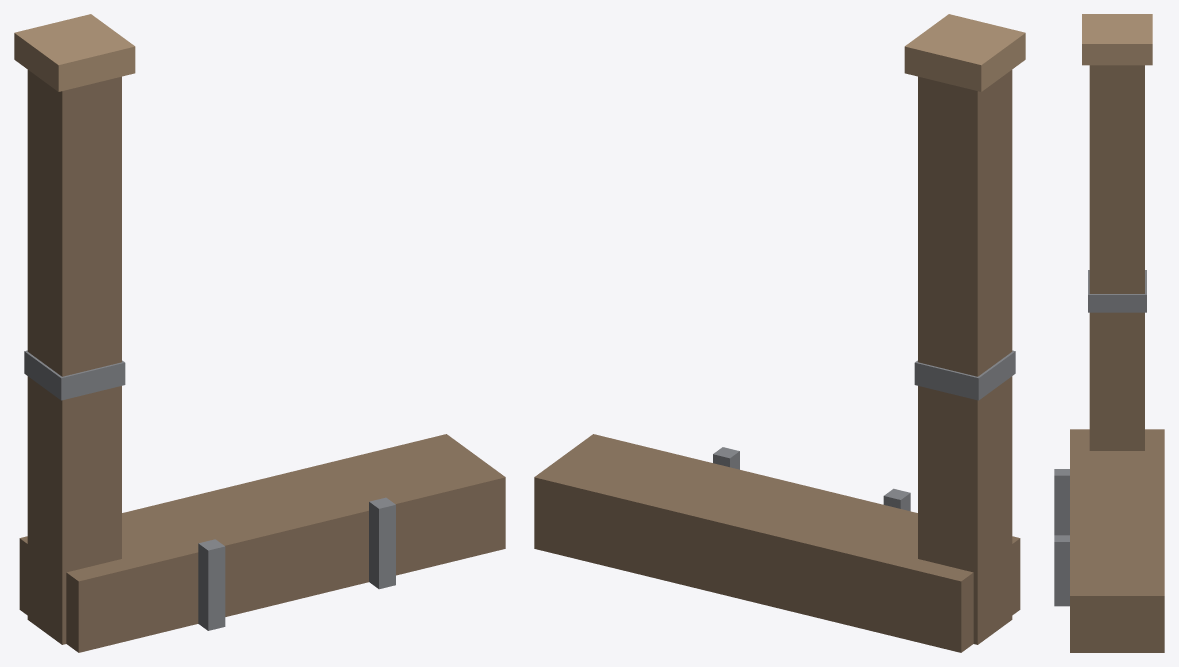
File: bridge-wood-head.glb
3 views of the same model, side by side, from view 1: azimuth 30°, elevation 25°; view 2: azimuth 150°, elevation 25°; view 3: azimuth 270°, elevation 25° (orthographic). The views are drawn at different scales.
Parts seen in each view (by area): view 1: bridge-wood-head; view 2: bridge-wood-head; view 3: bridge-wood-head.
Part boxes in pixels (bbox=[...]): bridge-wood-head: bbox=[14, 14, 505, 652]; bridge-wood-head: bbox=[534, 14, 1025, 652]; bridge-wood-head: bbox=[1054, 14, 1164, 652].
Bounding box in the file's own units: 1.03 × 1.31 × 0.28.
